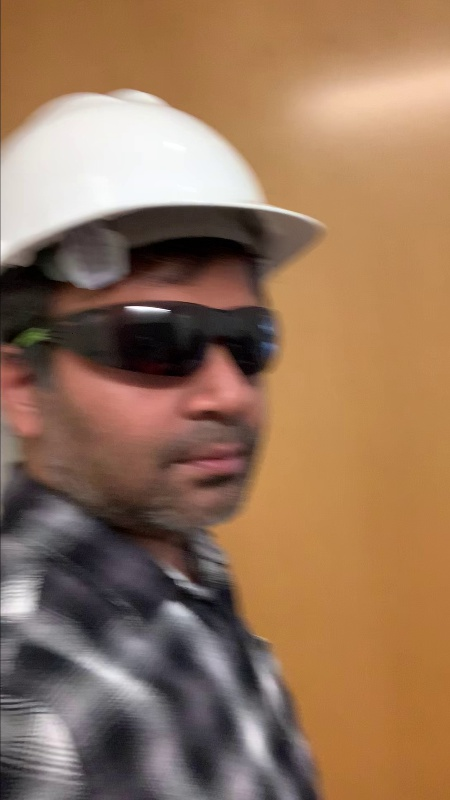glasses: (51, 296, 288, 394)
helmet: (1, 81, 326, 262)
